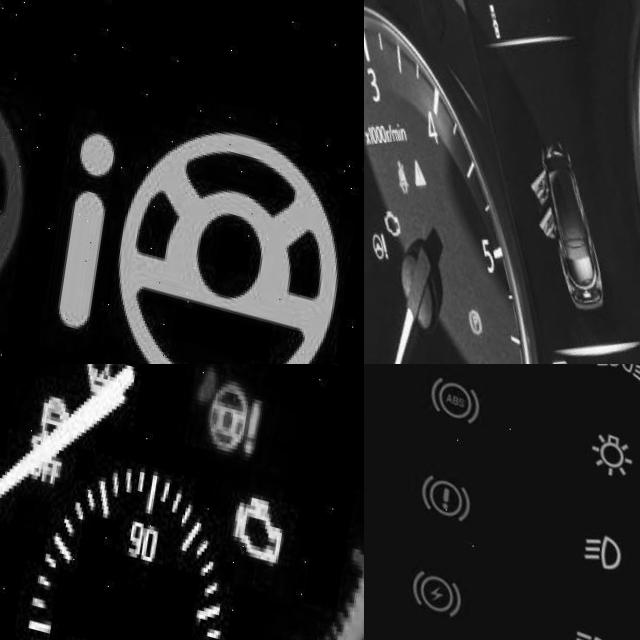Electronic Power Steering: (373, 223, 404, 259)
Electronic Power Steering Warning: (64, 79, 359, 364), (197, 364, 267, 436)
Seat Belt: (396, 150, 421, 188)
Washer Fluid: (79, 364, 138, 391)
